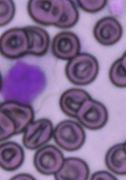L: (1, 55, 54, 107)
